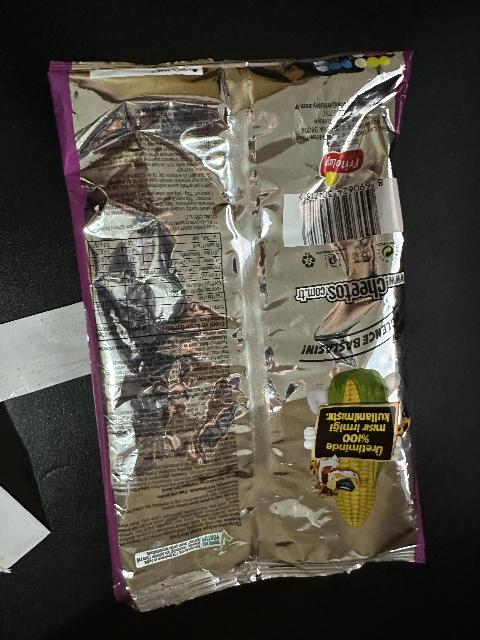Plastik: (51, 60, 425, 605)
